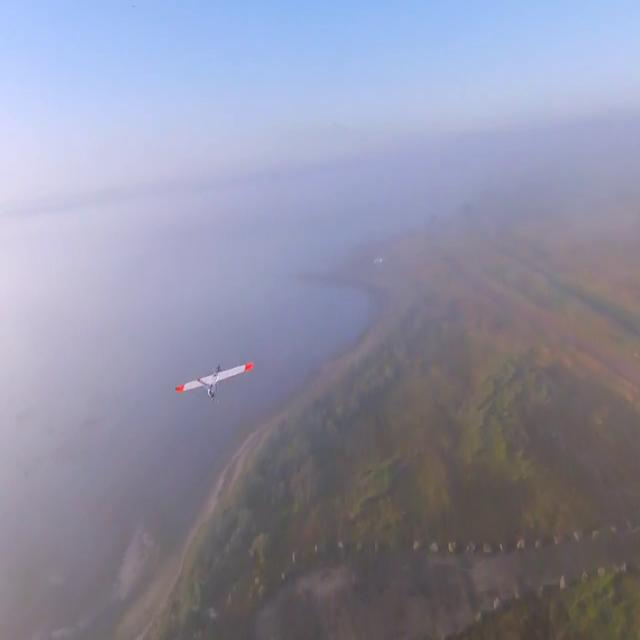iha: (208, 359, 222, 403)
